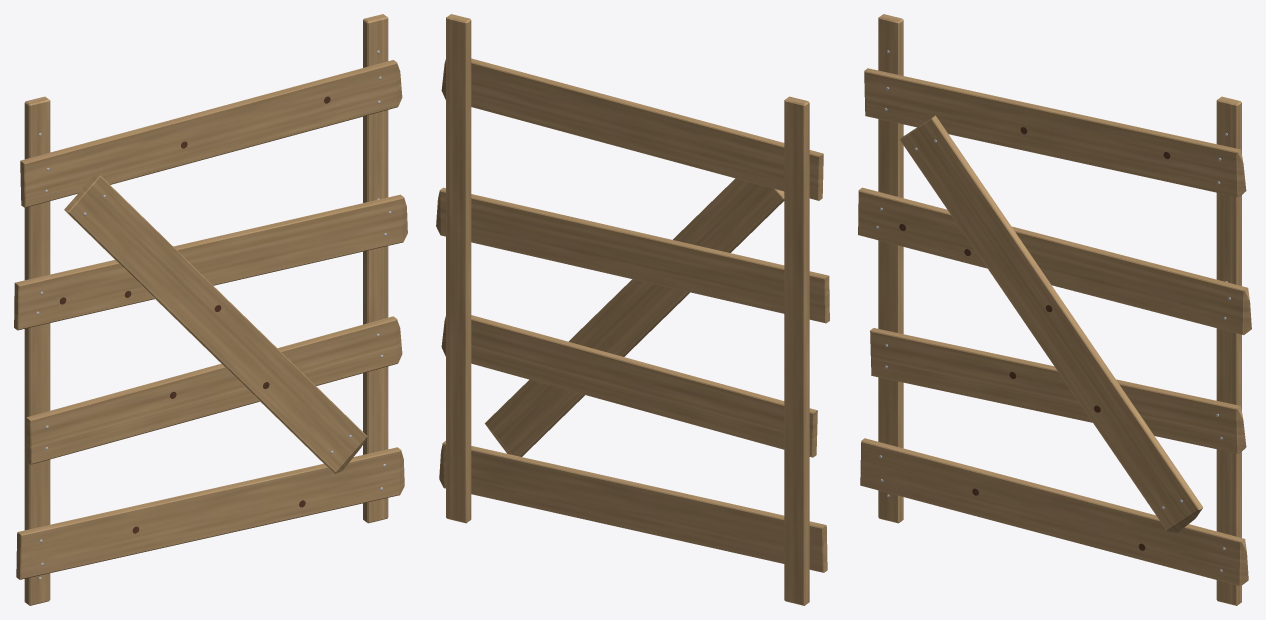
Rendered from barricada_janela.glb.
3 views of the same model, side by side, from view 1: azimuth 30°, elevation 25°; view 2: azimuth 150°, elevation 25°; view 3: azimuth 330°, elevation 25° (orthographic).
Parts seen in each view (by area): view 1: barricada_janela_tabua_5_madeira_crua, barricada_janela_tabua_1_madeira_crua, barricada_janela_tabua_4_madeira_crua, barricada_janela_madeira_crua, barricada_janela_tabua_3_madeira_crua, barricada_janela_tabua_2_madeira_crua; view 2: barricada_janela_madeira_crua, barricada_janela_tabua_3_madeira_crua, barricada_janela_tabua_1_madeira_crua, barricada_janela_tabua_4_madeira_crua, barricada_janela_tabua_2_madeira_crua, barricada_janela_tabua_5_madeira_crua; view 3: barricada_janela_tabua_5_madeira_crua, barricada_janela_tabua_1_madeira_crua, barricada_janela_tabua_4_madeira_crua, barricada_janela_madeira_crua, barricada_janela_tabua_3_madeira_crua, barricada_janela_tabua_2_madeira_crua.
Part boxes in pixels (x1,y1,x2,y2): barricada_janela_tabua_5_madeira_crua: (64,172,367,473); barricada_janela_tabua_1_madeira_crua: (16,447,404,579); barricada_janela_tabua_4_madeira_crua: (20,60,402,207); barricada_janela_madeira_crua: (24,14,388,605); barricada_janela_tabua_3_madeira_crua: (14,194,407,330); barricada_janela_tabua_2_madeira_crua: (26,316,402,464); barricada_janela_madeira_crua: (446,14,809,605); barricada_janela_tabua_3_madeira_crua: (436,187,829,323); barricada_janela_tabua_1_madeira_crua: (439,441,827,572); barricada_janela_tabua_4_madeira_crua: (441,58,823,200); barricada_janela_tabua_2_madeira_crua: (441,315,817,457); barricada_janela_tabua_5_madeira_crua: (485,178,784,456); barricada_janela_tabua_5_madeira_crua: (899,115,1202,532); barricada_janela_tabua_1_madeira_crua: (860,438,1248,586); barricada_janela_tabua_4_madeira_crua: (864,68,1246,197); barricada_janela_madeira_crua: (878,14,1241,605); barricada_janela_tabua_3_madeira_crua: (858,187,1251,334); barricada_janela_tabua_2_madeira_crua: (870,328,1246,453).
Bounding box in the file's own units: 1.28 × 1.56 × 0.08.
Materials: 3 (2 with a texture image).
